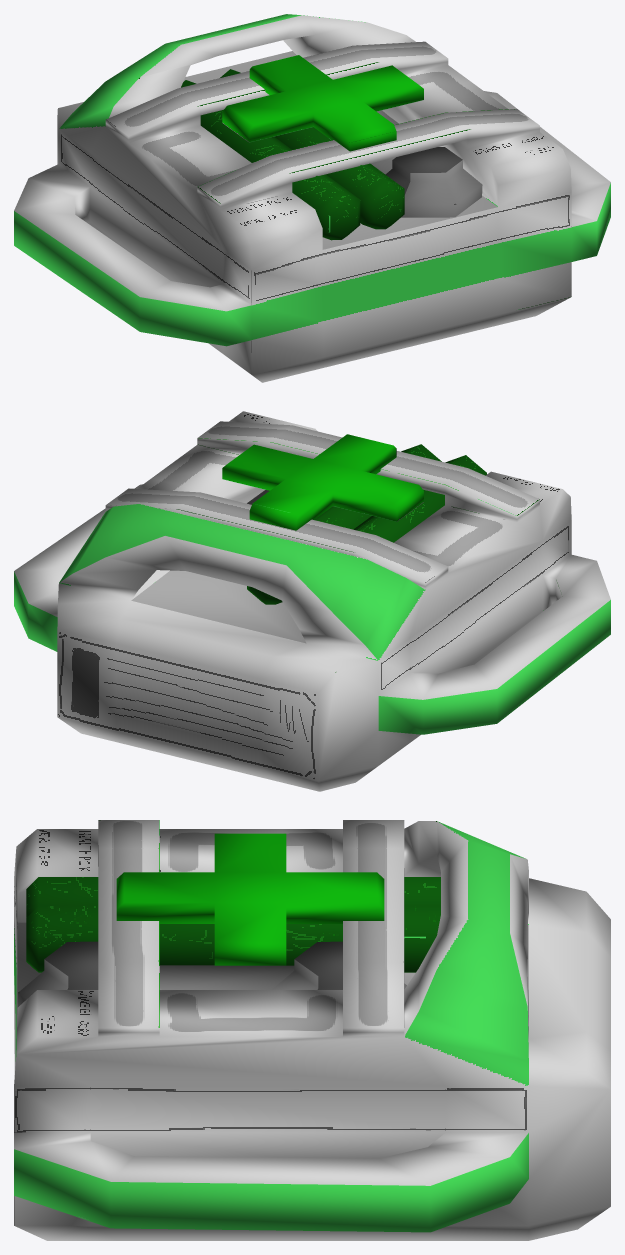
Rendered from healthPack.glb.
3 views of the same model, one above another, from view 1: azimuth 30°, elevation 25°; view 2: azimuth 150°, elevation 25°; view 3: azimuth 270°, elevation 25° (orthographic). The views are drawn at different scales.
Visible parts, largest first — view 1: healthPack; view 2: healthPack; view 3: healthPack.
Boxes of the visible parts, <box> form: healthPack: <box>14,14,610,382</box>; healthPack: <box>14,411,610,791</box>; healthPack: <box>14,820,610,1240</box>.
Size of the model in its own units: 0.5835 by 0.2353 by 0.4682.
1 material, 1 textured.
